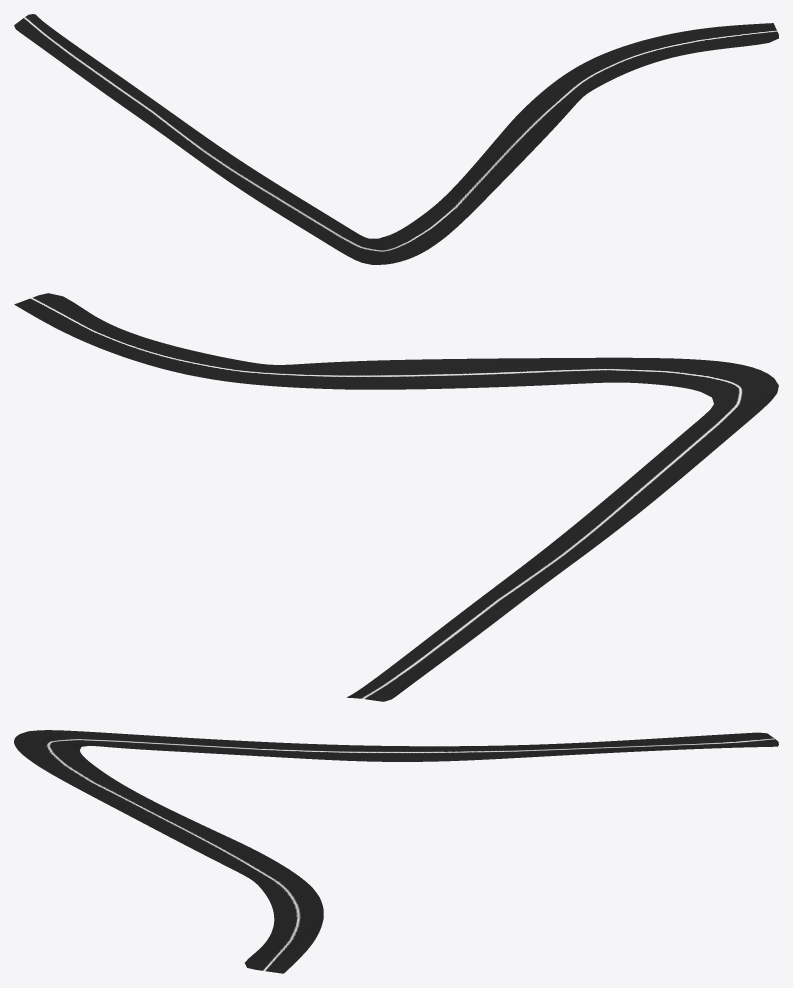
File: Segment1roadtesttextgureed.fbx
The picture shows the model from 3 angles, top to bottom: view 1: azimuth 30°, elevation 25°; view 2: azimuth 150°, elevation 25°; view 3: azimuth 270°, elevation 25°; orthographic projection. The views are drawn at different scales.
Parts seen in each view (by area): view 1: nurbsToPoly1; view 2: nurbsToPoly1; view 3: nurbsToPoly1.
Part boxes in pixels (box(x1,y1,x2,y2)): nurbsToPoly1: box(14, 14, 778, 264); nurbsToPoly1: box(14, 293, 778, 701); nurbsToPoly1: box(14, 730, 778, 973).
Size of the model in its own units: 2981943 by 238123 by 3429062.
